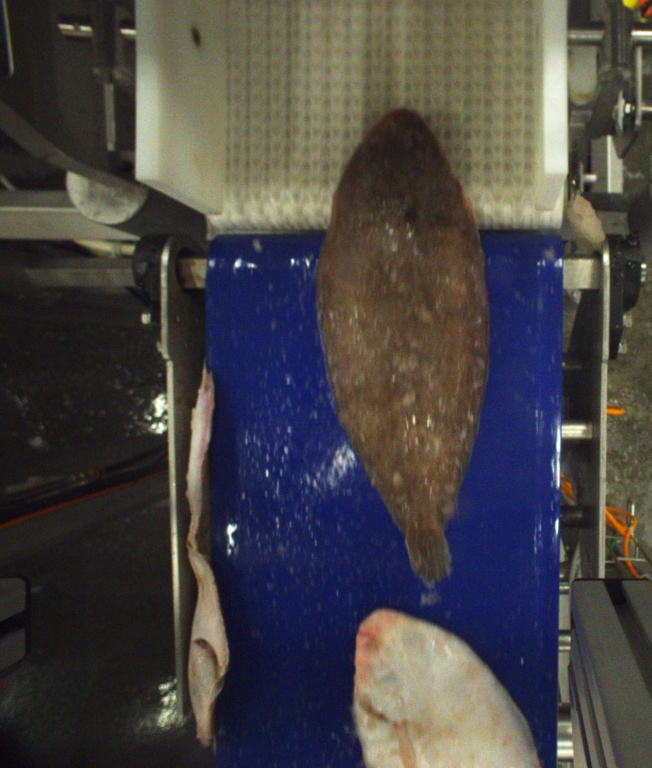SOL: (313, 107, 490, 586)
